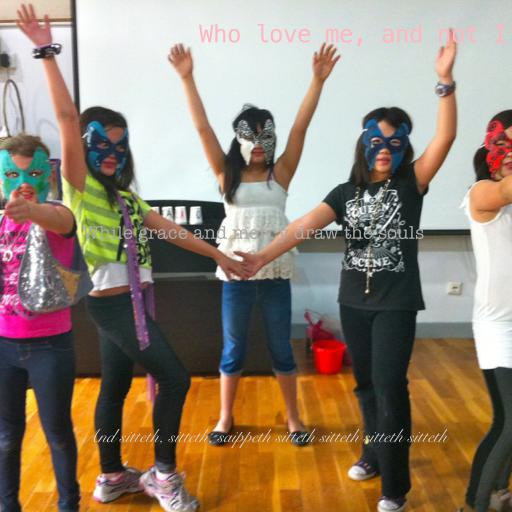American Typewriter: (82, 226, 424, 243)
Menlo: (199, 24, 507, 47)
Snell Roundhand: (81, 428, 447, 449)
